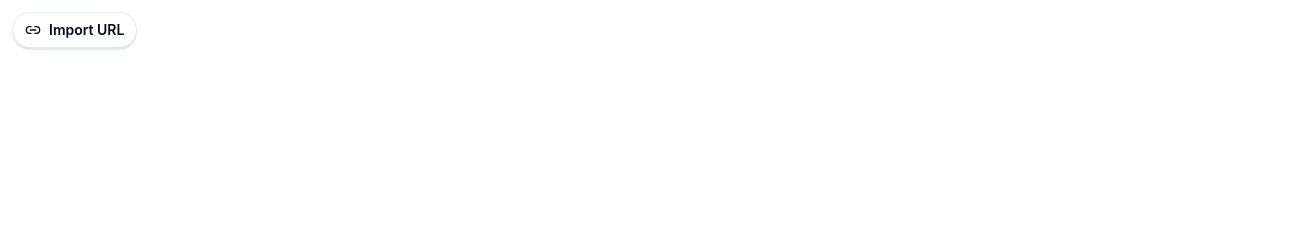
Scenario: URL import review › preserves the current document on failure and allows retry
Click the button "Import URL" at (75, 30), box left=12, top=12, right=137, bottom=48
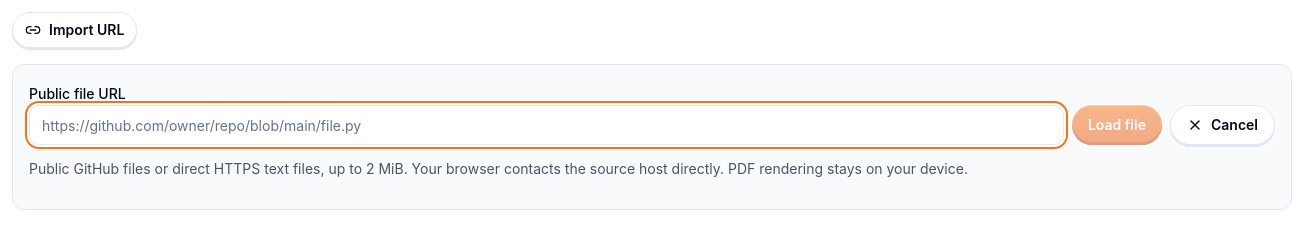
Type "https://example.org/main.py" into the field labelled "Public file URL" at (546, 125), box left=29, top=105, right=1064, bottom=145
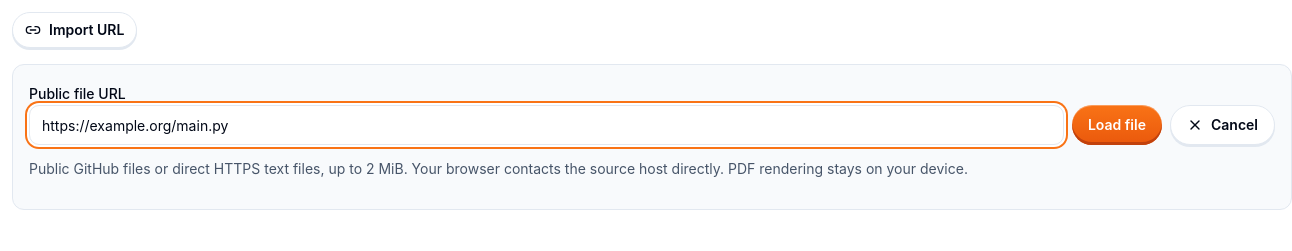
Submit the form labelled "Public file URL", box left=29, top=81, right=1275, bottom=181
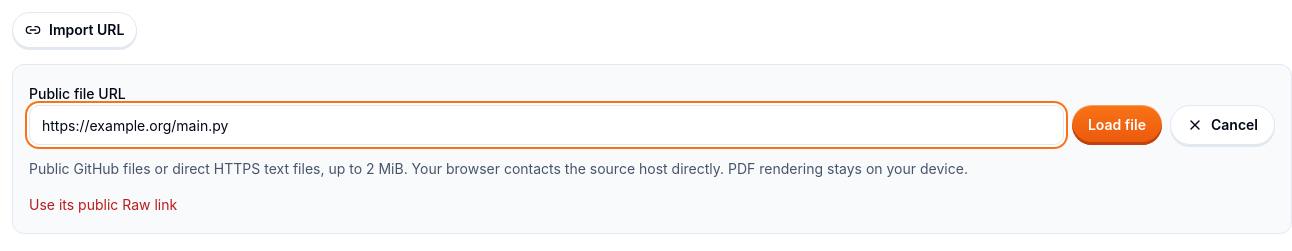
Now the button "Load file" is enabled, box left=1072, top=105, right=1162, bottom=145
Now the message shows "Raw link", box left=29, top=196, right=177, bottom=213
